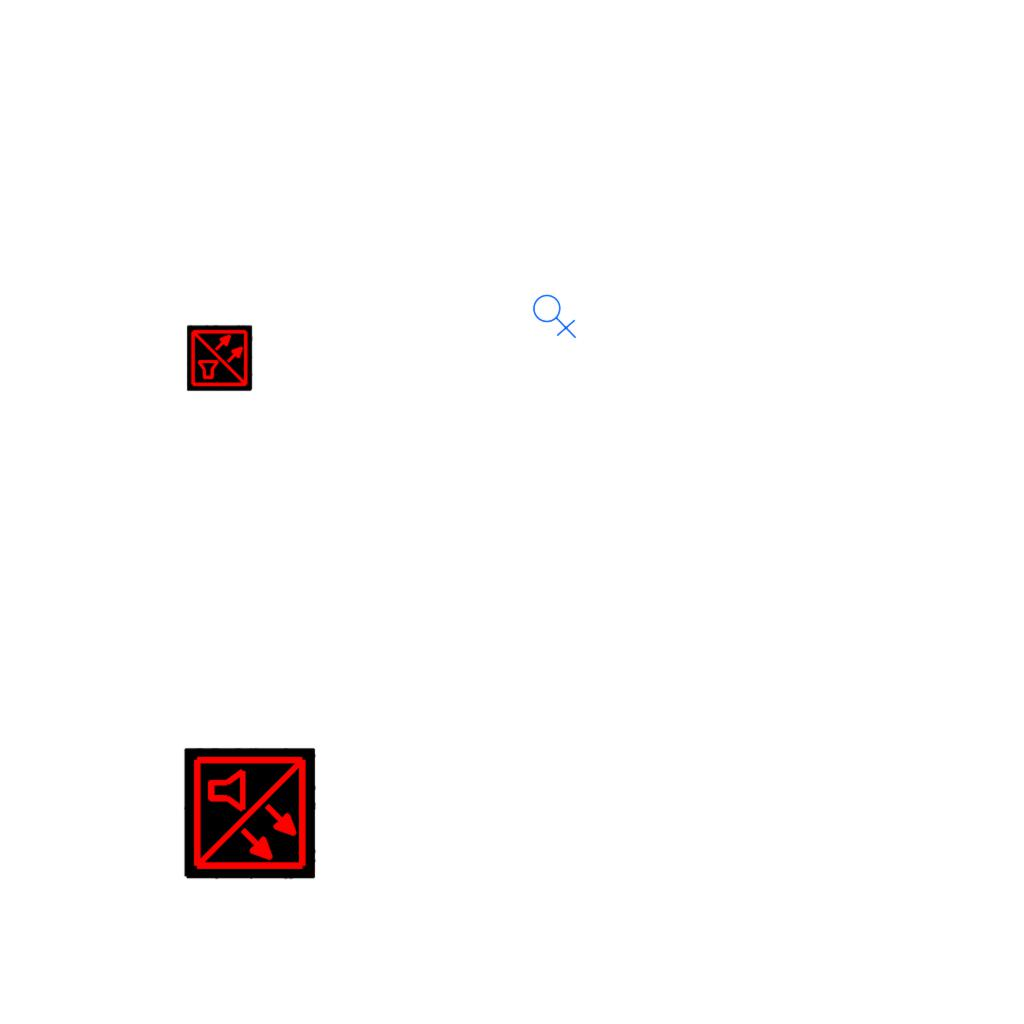Elektroanschluss_allgemein_230V_Geraeteanschlussdose_230V: (532, 290, 579, 339)
OKW_Multisensormelder_(Kombination_optischer_Rauch-Kahlenmonoxid_Waerme-Melder): (184, 748, 316, 880), (187, 325, 253, 391)
